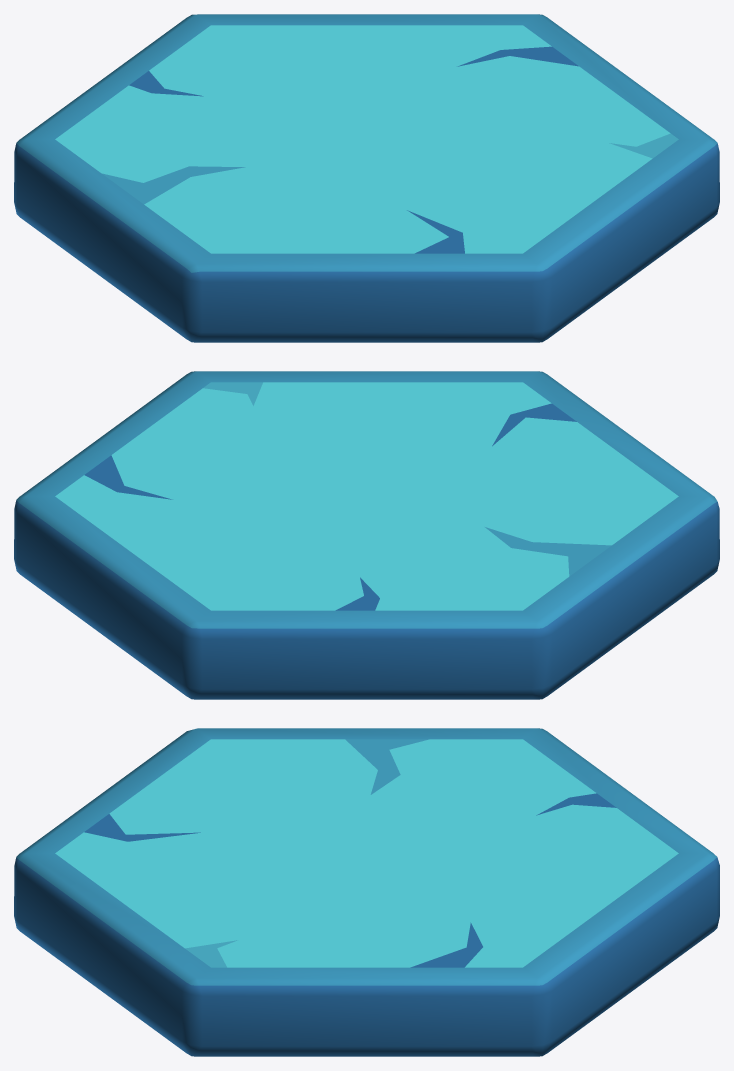
Rendered from Platform blue 2.fbx.
3 views of the same model, one above another, from view 1: azimuth 30°, elevation 25°; view 2: azimuth 150°, elevation 25°; view 3: azimuth 270°, elevation 25° (orthographic).
Visible parts, largest first — view 1: Platform blue 2; view 2: Platform blue 2; view 3: Platform blue 2.
Boxes of the visible parts, <box> form: Platform blue 2: <box>14,14,719,342</box>; Platform blue 2: <box>14,371,719,699</box>; Platform blue 2: <box>14,728,719,1056</box>.
Bounding box in the file's own units: 625 × 83.5 × 715.
